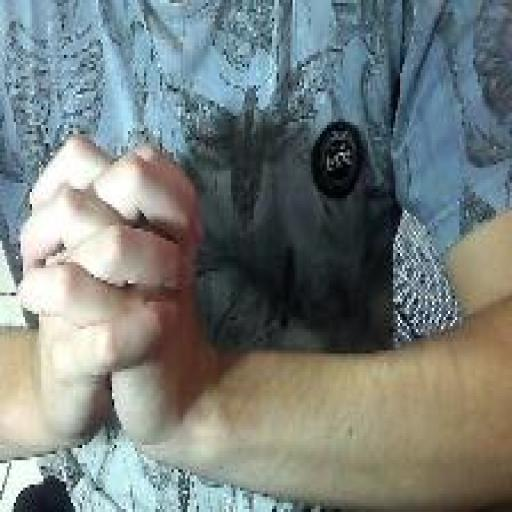Mi -snake-: (15, 129, 204, 468)
